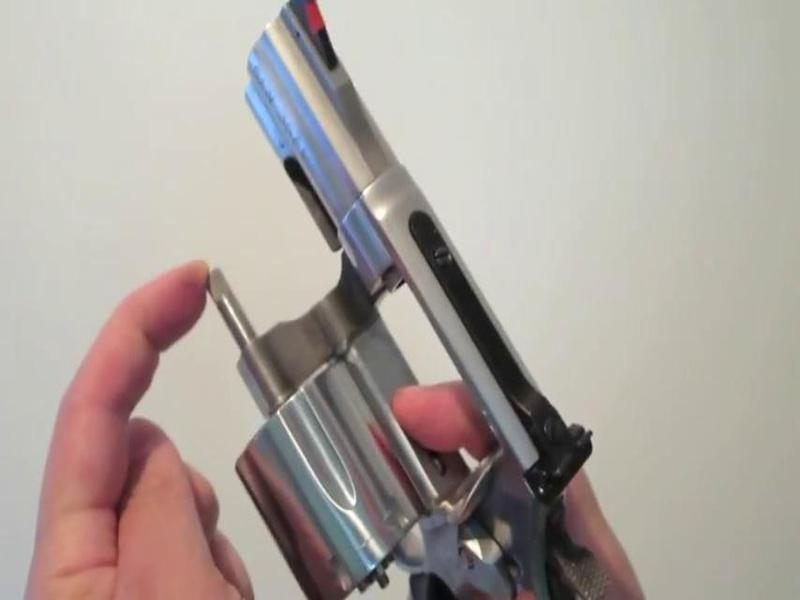Revolver: (177, 4, 590, 600)
